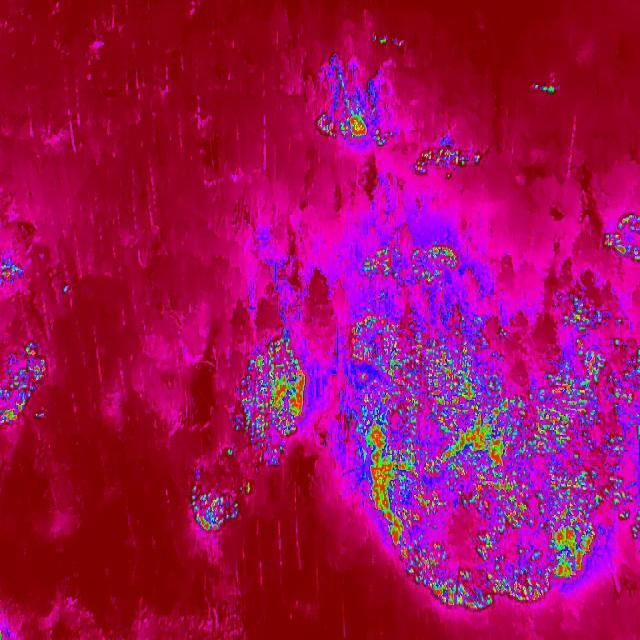fire: (354, 465, 614, 613), (342, 310, 544, 465), (538, 291, 640, 469), (238, 336, 312, 442), (356, 241, 464, 287), (0, 343, 50, 425), (188, 475, 253, 535), (317, 102, 393, 149), (408, 141, 484, 181), (602, 208, 640, 266), (610, 473, 640, 543), (372, 28, 410, 52), (528, 74, 562, 98), (0, 252, 21, 290), (59, 281, 74, 297), (220, 444, 234, 460)
